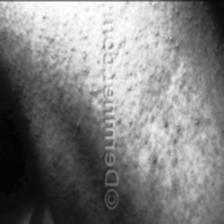Toxin: (139, 40, 186, 131)
